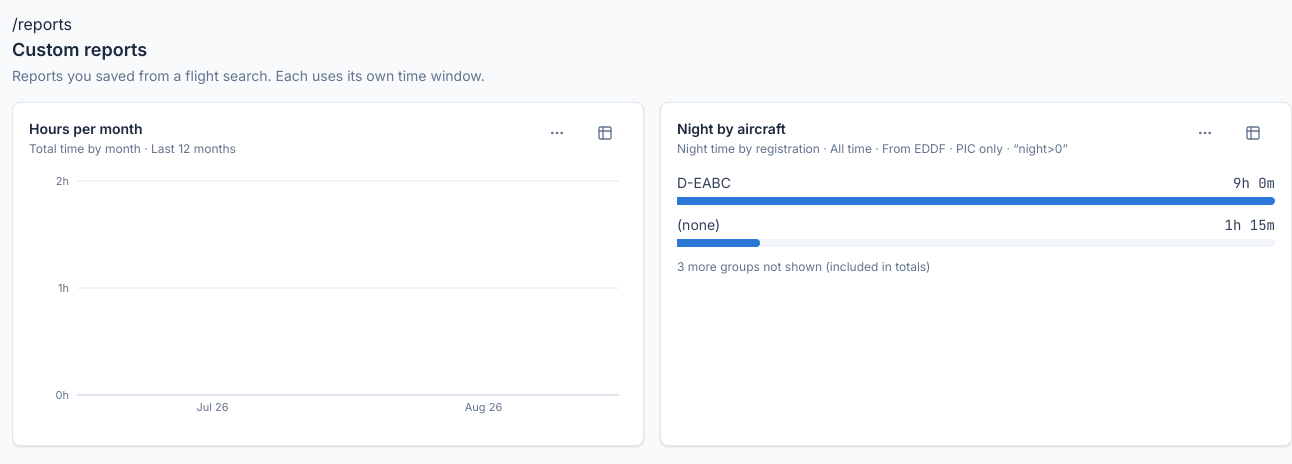
Test case: CustomReportsSection › shows every metric and a totals row in the table view
This screenshot has width=1292, height=464.
Step 1. Click the button named "Show as table" in the row of "Total time by month · Last 12 months" → x=605, y=133, box [583,111,627,155]
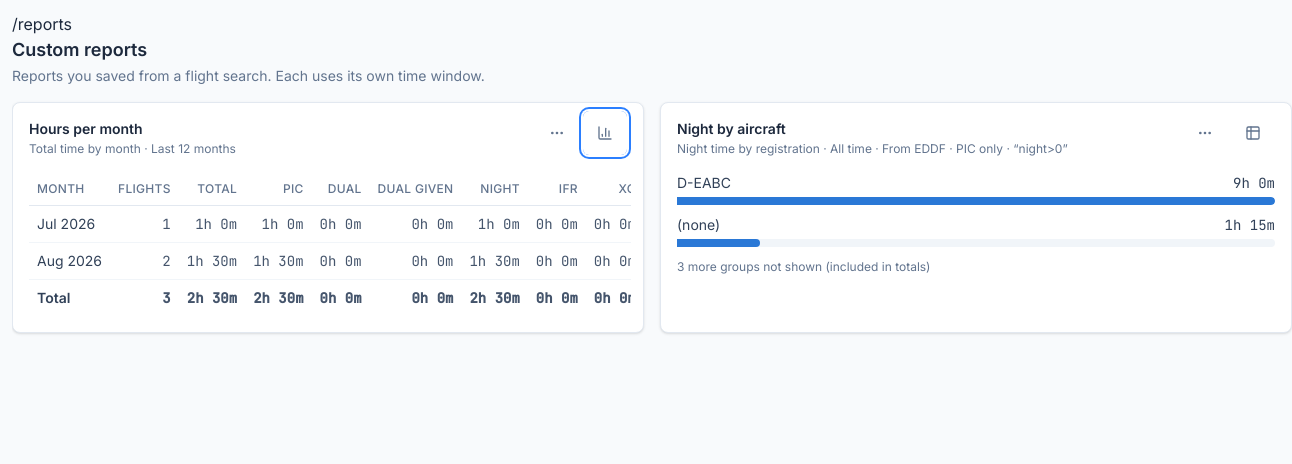
expect the column heading "Month" is shown: met, box [29,173,110,206]
expect the column heading "Flights" is shown: met, box [110,173,179,206]
expect the column heading "Total" is shown: met, box [179,173,245,206]
